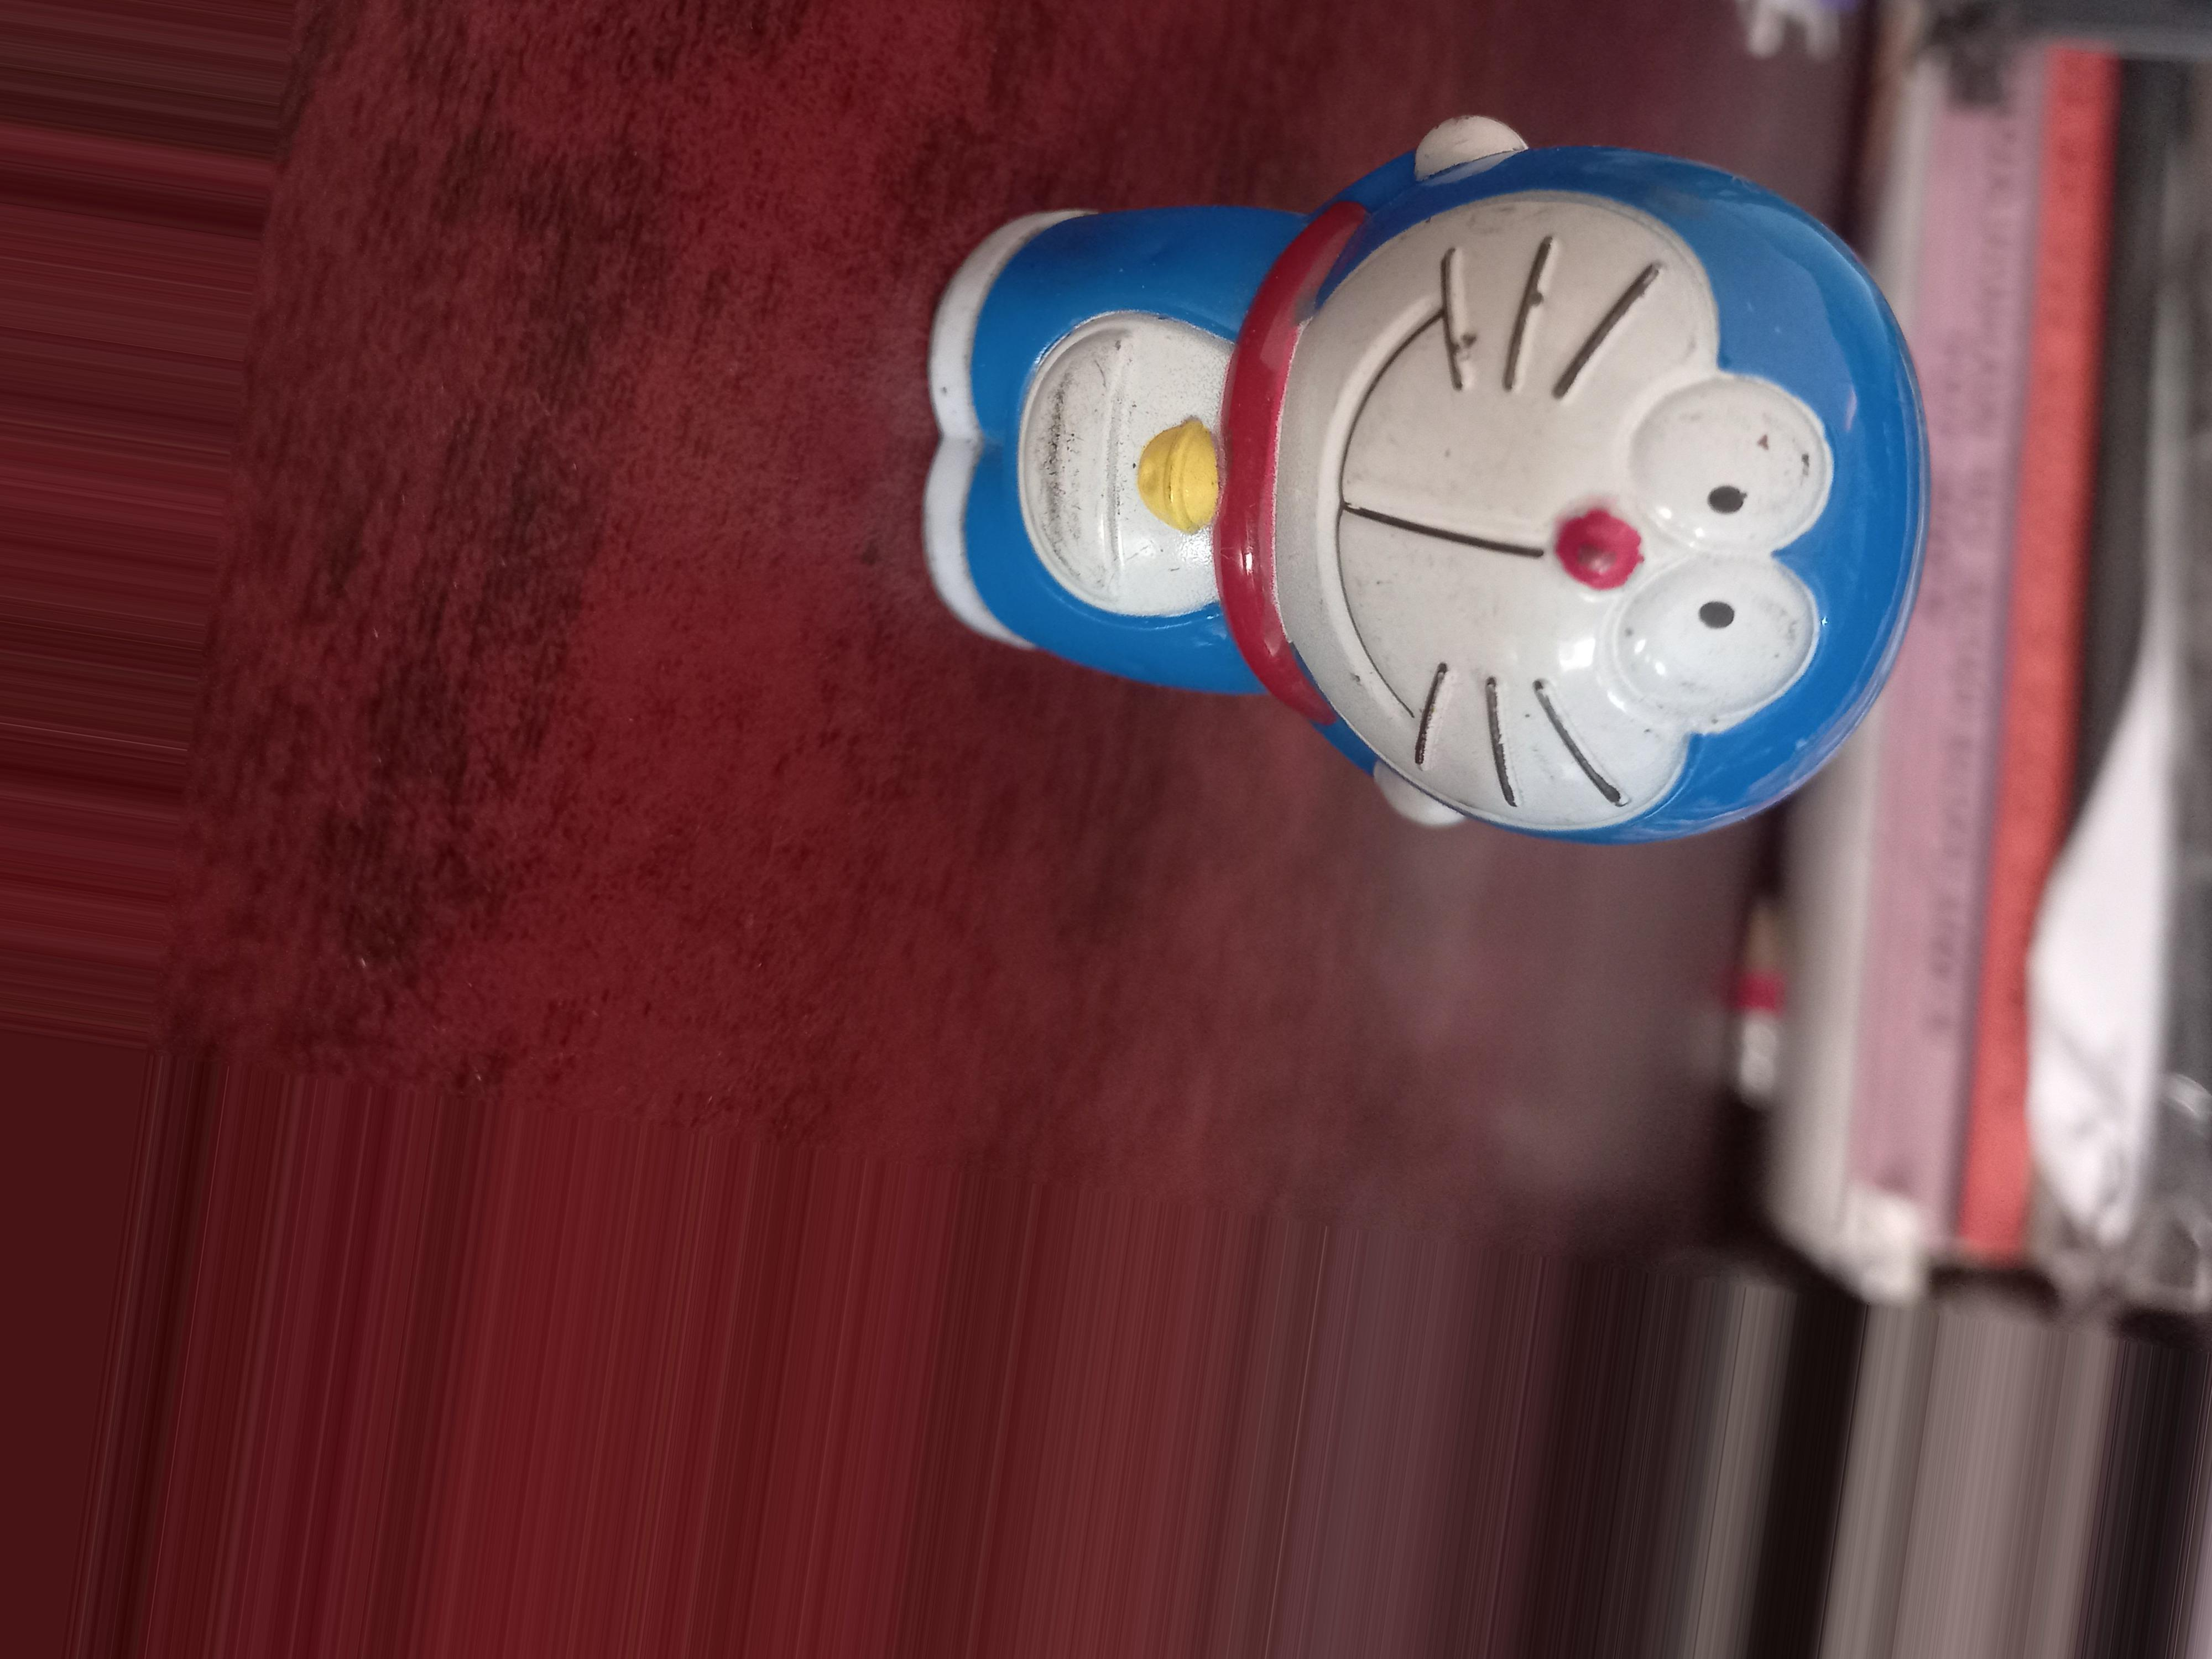doraemon: (914, 216, 1902, 854)
